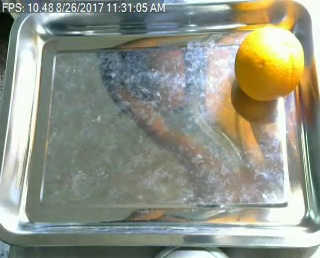Orange: (234, 25, 303, 101)
